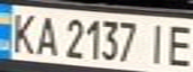1: (81, 16, 103, 61)
2: (60, 15, 84, 60)
3: (100, 17, 121, 62)
7: (118, 18, 142, 63)
A: (30, 11, 60, 56)
E: (163, 20, 193, 69)
I: (142, 20, 172, 65)
K: (3, 9, 42, 55)
